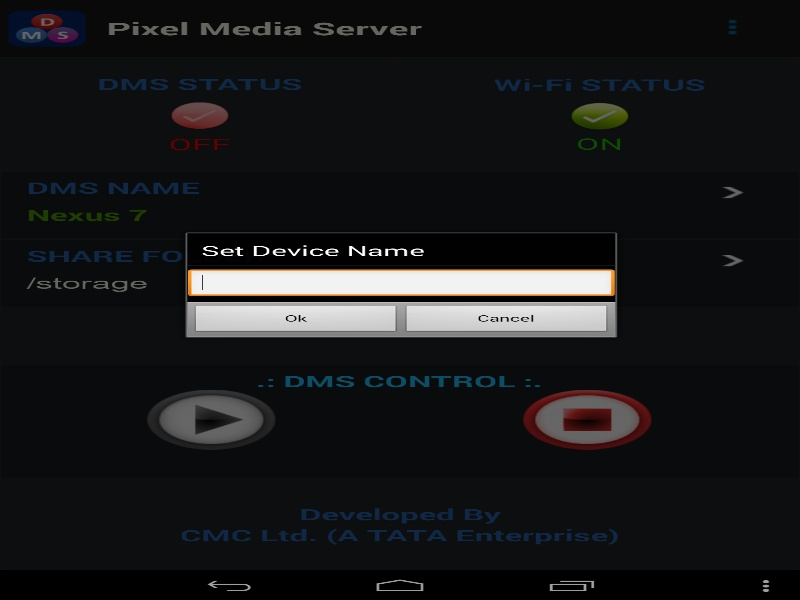Button: (190, 304, 401, 334), (401, 304, 612, 334)
Input: (188, 269, 614, 299)
